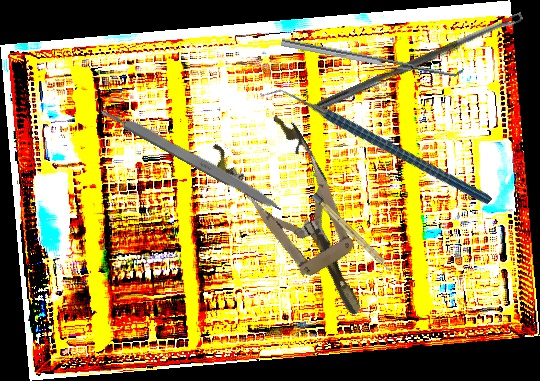Chopper: (259, 26, 493, 267)
Scalpel Handle: (96, 100, 288, 216), (311, 192, 395, 275)
Spatula Surgical: (280, 31, 465, 81)
Speculum: (204, 103, 396, 338)
Surgical Spoon: (315, 11, 525, 113)
